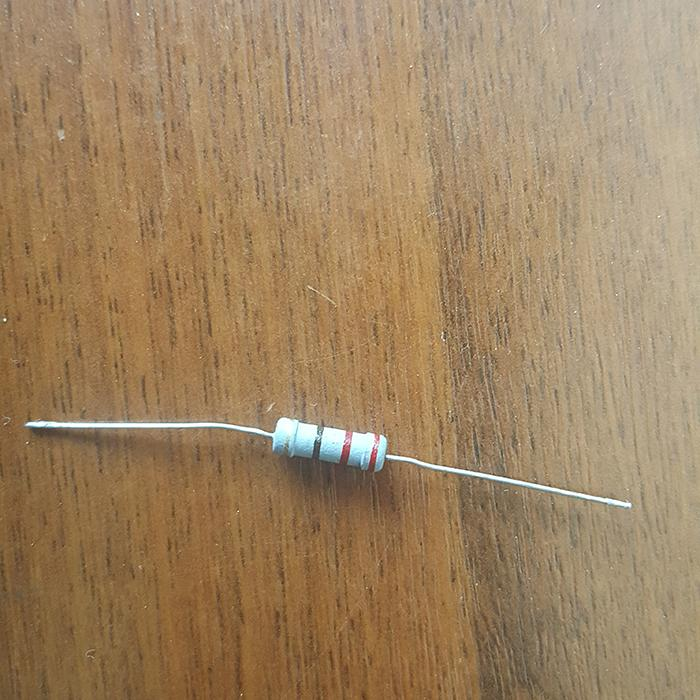resistor: (268, 415, 390, 472)
